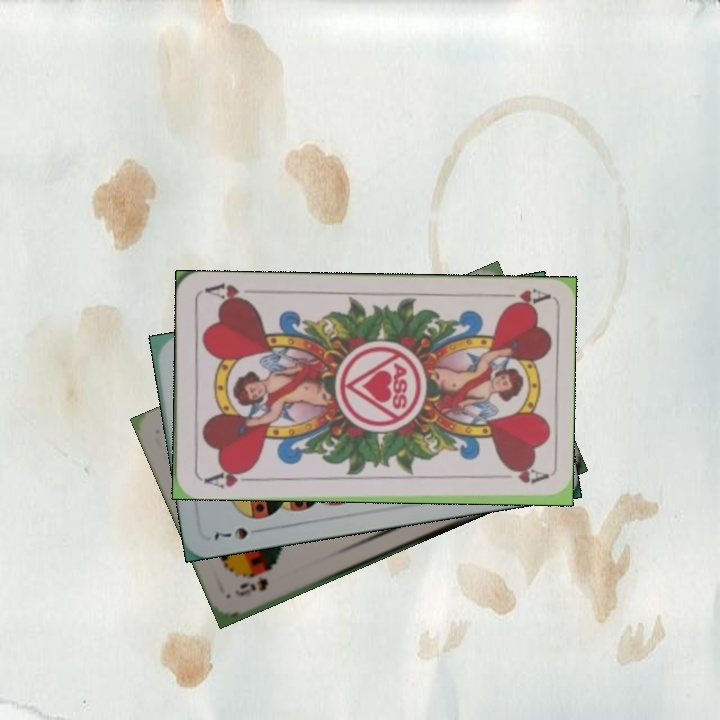HA: (197, 464, 257, 491), (491, 284, 550, 310)
S7: (210, 523, 251, 543)
SO: (231, 573, 271, 599)
